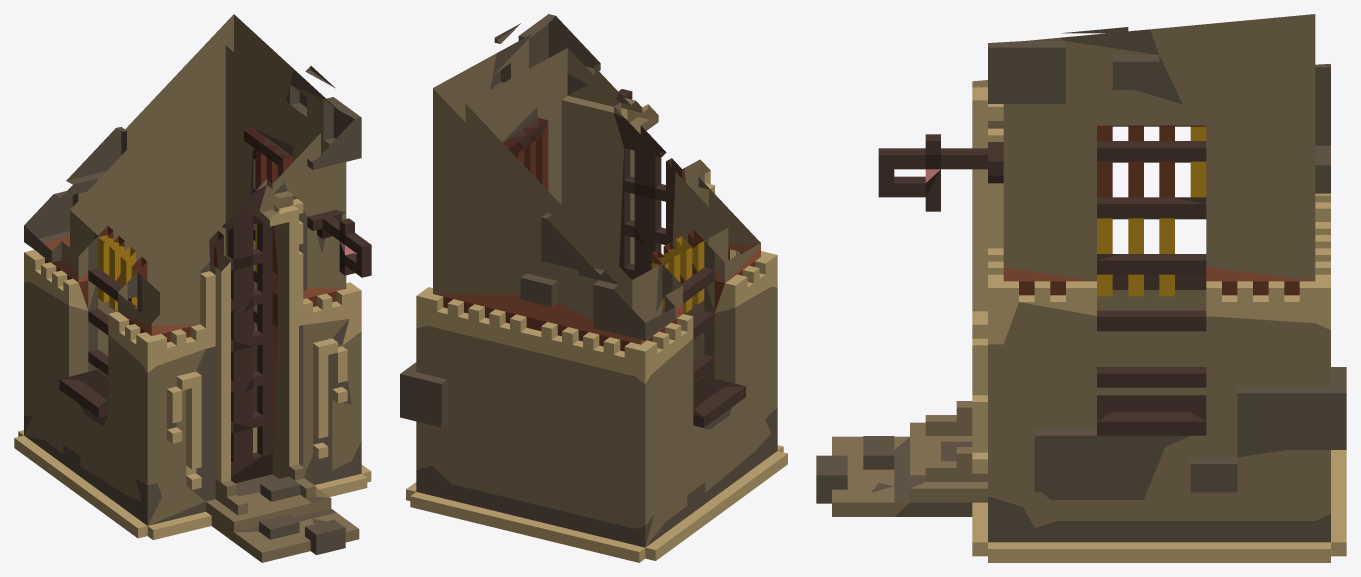
Rendered from tallBuilding_01_bottom.obj.
3 renders of one model, left to right at view 1: azimuth 30°, elevation 25°; view 2: azimuth 150°, elevation 25°; view 3: azimuth 270°, elevation 25°, orthographic. The views are drawn at different scales.
Visible parts, largest first — view 1: Untitled; view 2: Untitled; view 3: Untitled.
Boxes of the visible parts, box(x1,y1,x2,y2) form: Untitled: box(14, 14, 371, 562); Untitled: box(400, 14, 787, 562); Untitled: box(816, 14, 1346, 562).
Bounding box in the file's own units: 2.4 × 3.79 × 3.4.
